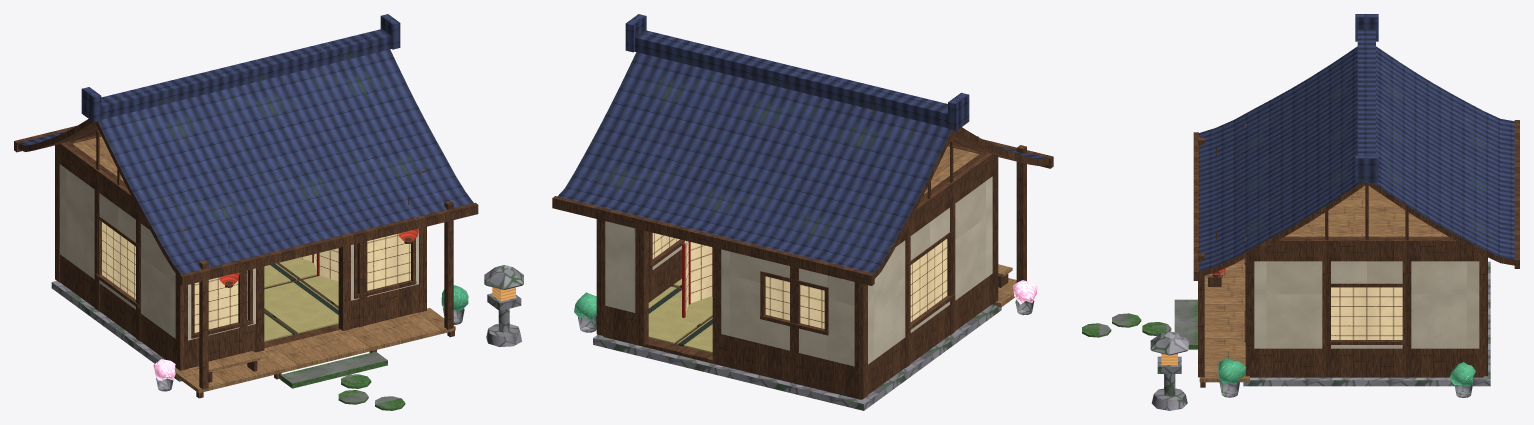
Rendered from house_tea.gltf.
The picture shows the model from 3 angles, left to right: view 1: azimuth 30°, elevation 25°; view 2: azimuth 150°, elevation 25°; view 3: azimuth 270°, elevation 25°; orthographic projection. The views are drawn at different scales.
Parts seen in each view (by area): view 1: TeaHouse; view 2: TeaHouse; view 3: TeaHouse.
Part boxes in pixels (x1,y1,x2,y2): TeaHouse: [14, 14, 523, 410]; TeaHouse: [552, 14, 1053, 410]; TeaHouse: [1082, 14, 1519, 410].
Size of the model in its own units: 11.18 by 7.95 by 13.1.
Materials: 15 (15 with a texture image).
